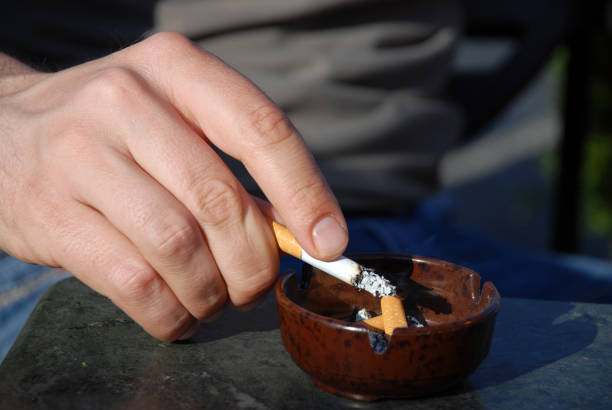cigarette: (263, 214, 397, 298), (380, 295, 409, 336)
